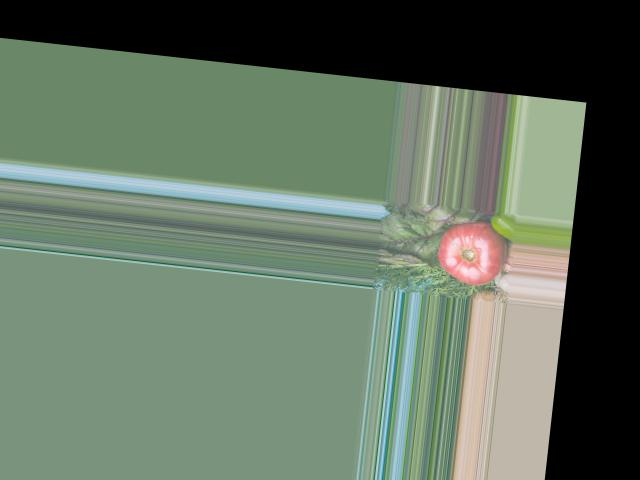tomato: (435, 216, 511, 288)
